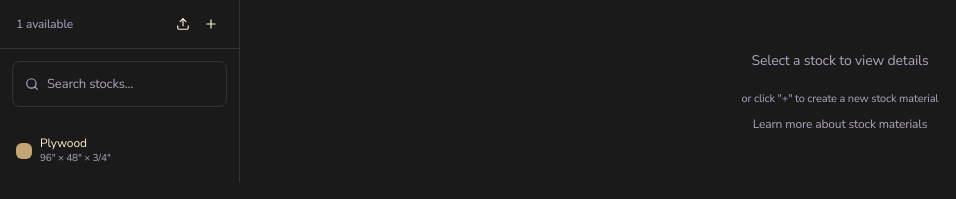
Test case: StocksTab › search › shows no match message
This screenshot has width=956, height=199.
Type "zzz" into the field with placeholder "Search stocks..." at (130, 84), box 47,70 -> 214,98
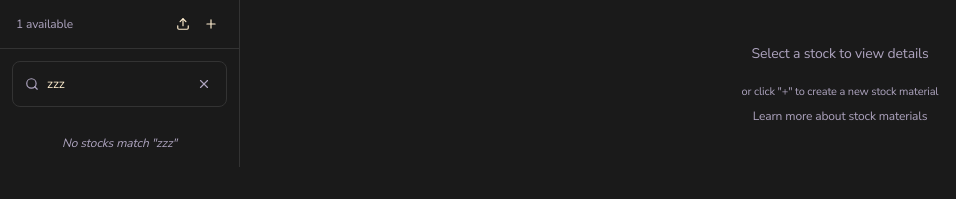
Now the text "No stocks match \"zzz\"" is shown, box 62,135 -> 177,151
